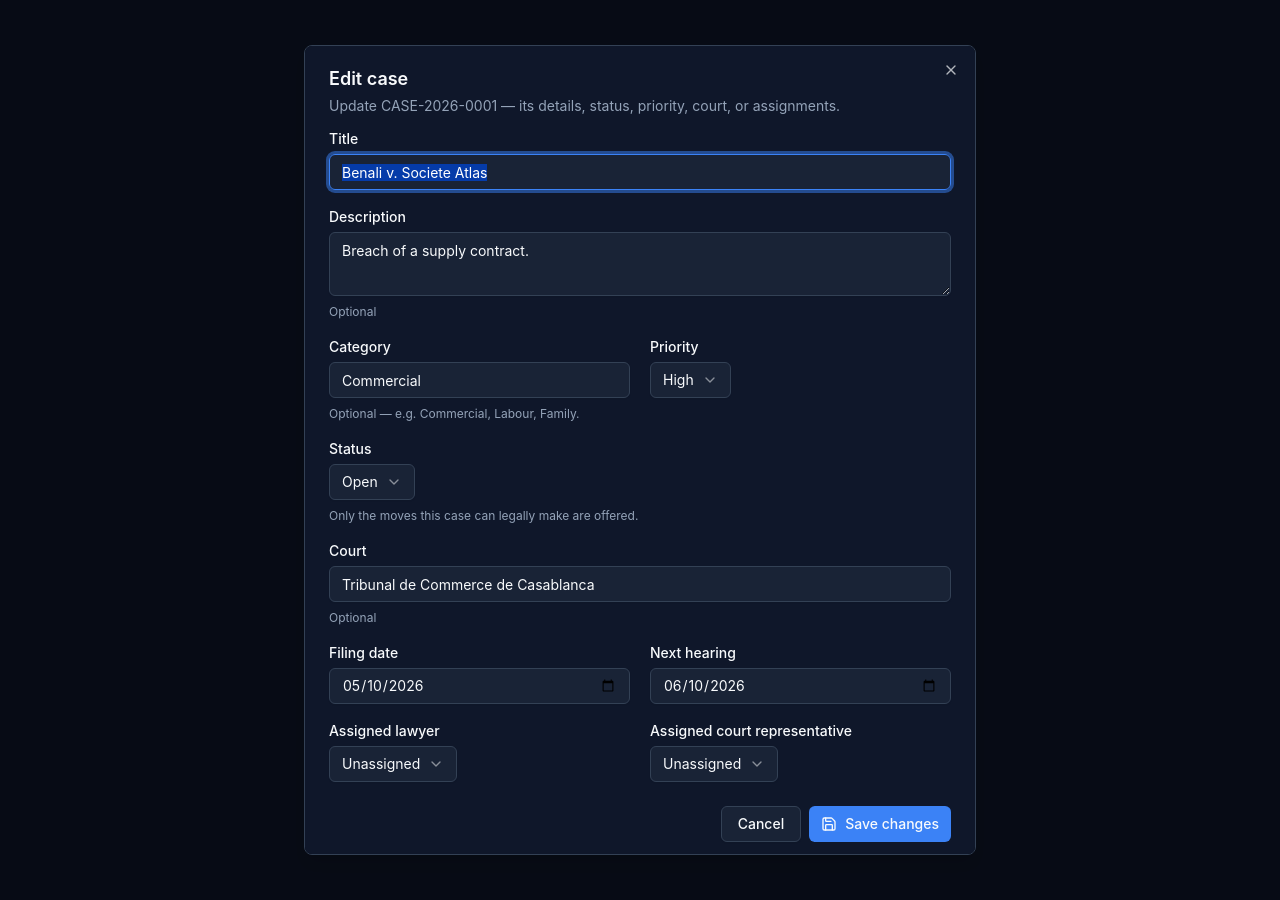
Test: EditCaseDialog › surfaces a refused transition from the server
This screenshot has width=1280, height=900.
Replace the text in the field labelled "Title" with "Renamed": (640, 172) [329,154,951,190]
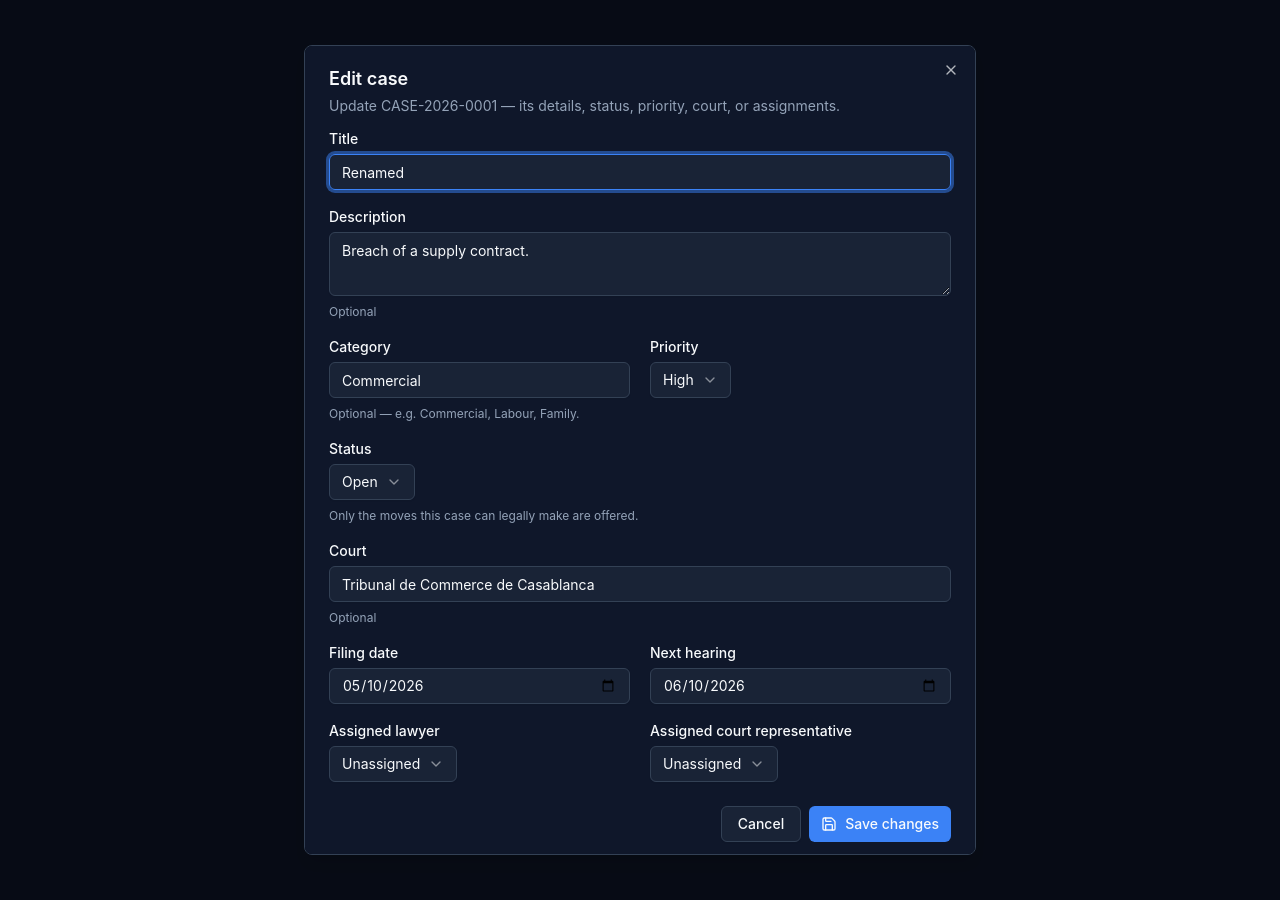
Click the button "Save changes": (880, 824) [809,806,951,842]
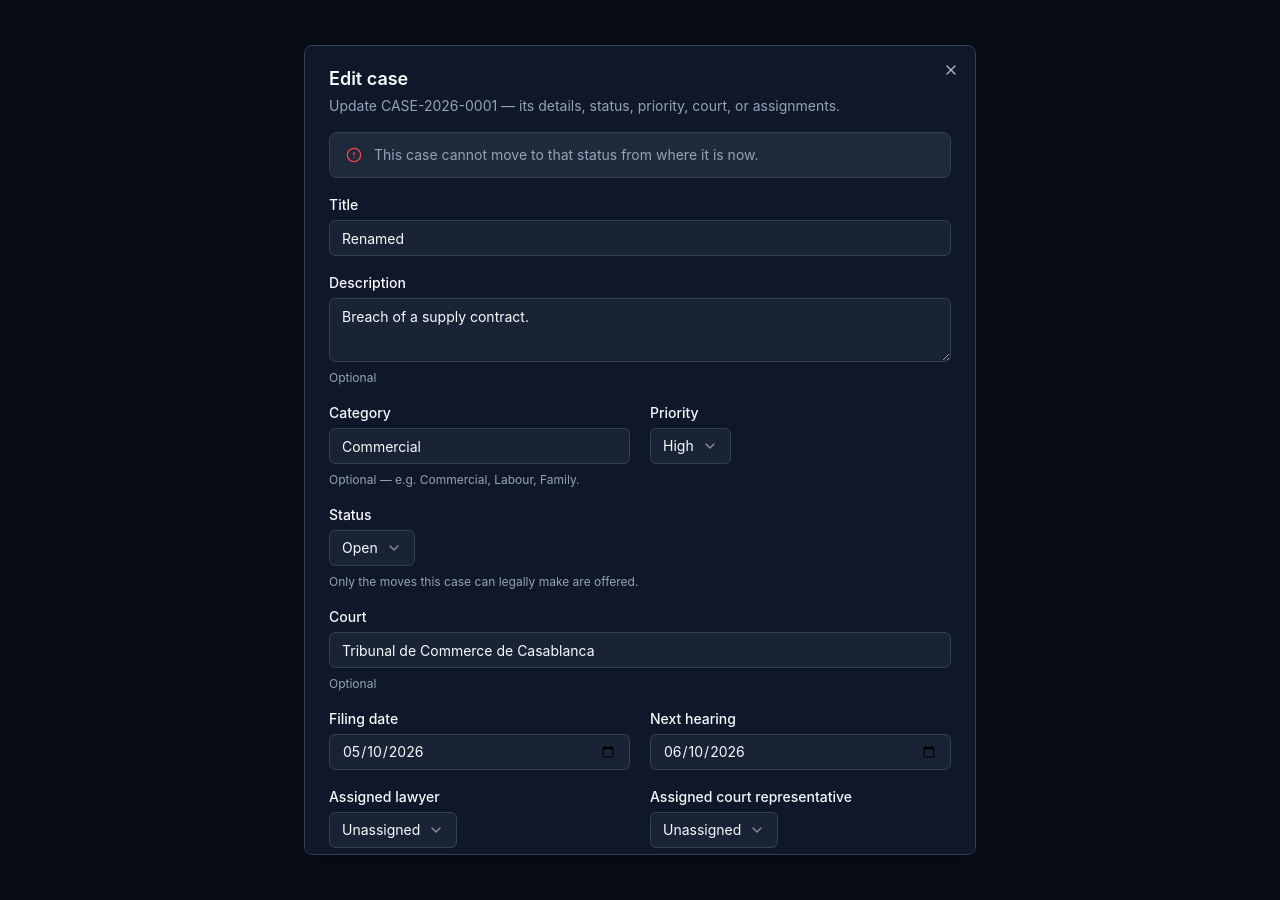
Result: the text "This case cannot move to that status from where it is now." is shown at [374,146,758,163]
